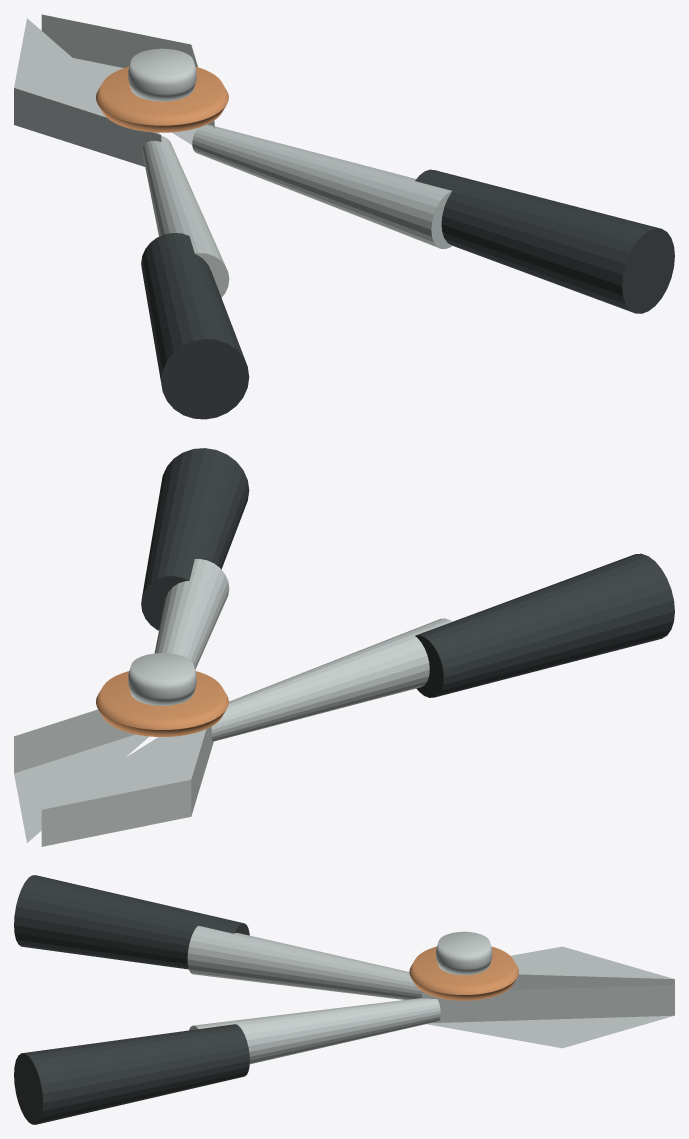
Rendered from tea-garden-and-processing-house-tea-garden-and-process-7e53af45__30759.glb.
3 renders of one model, top to bottom at view 1: azimuth 30°, elevation 25°; view 2: azimuth 150°, elevation 25°; view 3: azimuth 270°, elevation 25°, orthographic. The views are drawn at different scales.
Visible parts, largest first — view 1: tea-garden-and-processing-house-pruning-shear; view 2: tea-garden-and-processing-house-pruning-shear; view 3: tea-garden-and-processing-house-pruning-shear.
Boxes of the visible parts, box(x1,y1,x2,y2) form: tea-garden-and-processing-house-pruning-shear: box(14, 14, 674, 419); tea-garden-and-processing-house-pruning-shear: box(14, 448, 674, 846); tea-garden-and-processing-house-pruning-shear: box(14, 875, 674, 1124).
Bounding box in the file's own units: 0.3477 × 0.071 × 0.4703.
